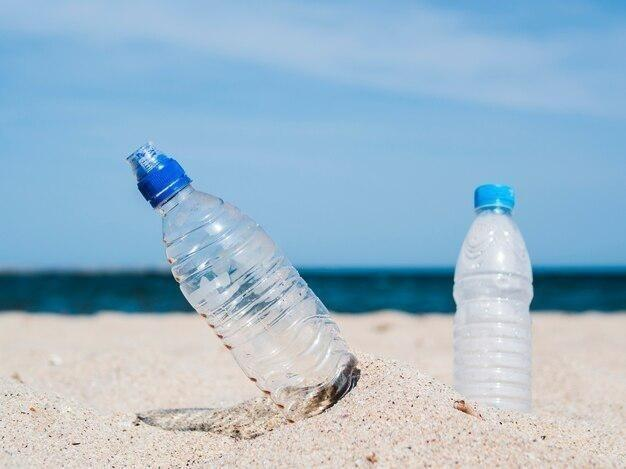bottle-plastic: (125, 140, 363, 419), (448, 181, 537, 414)
